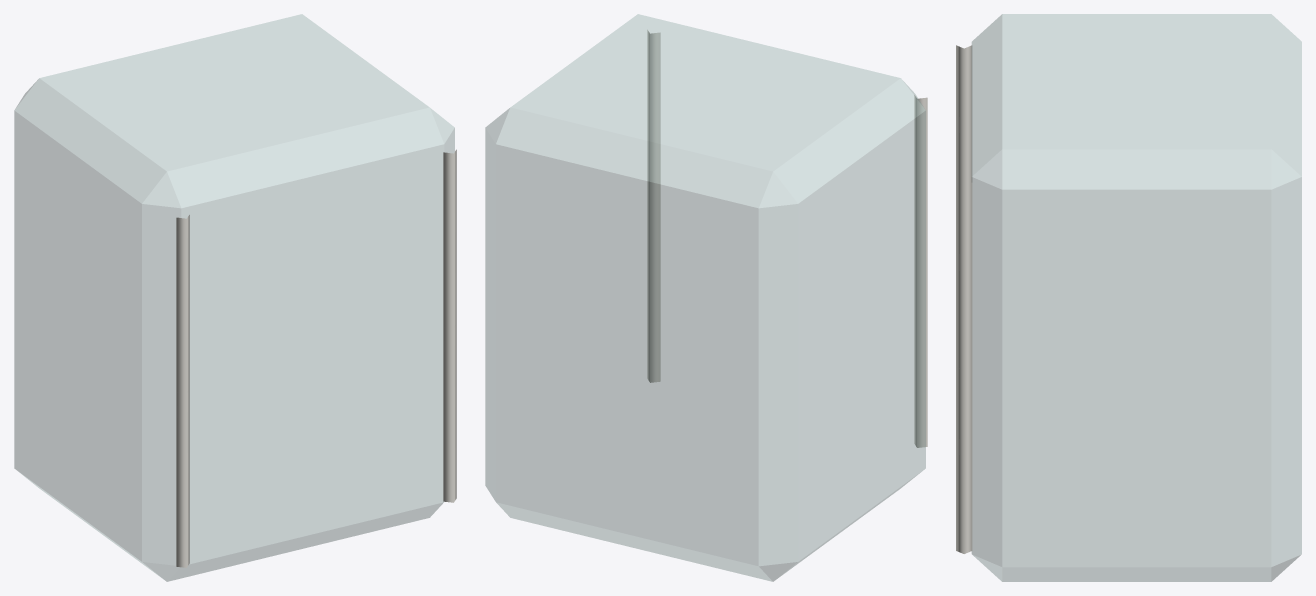
The model's file is ice.glb.
3 views of the same model, side by side, from view 1: azimuth 30°, elevation 25°; view 2: azimuth 150°, elevation 25°; view 3: azimuth 270°, elevation 25° (orthographic). The views are drawn at different scales.
Parts seen in each view (by area): view 1: ice; view 2: ice; view 3: ice.
Boxes of the visible parts, x1=… form: ice: x1=14, y1=14, x2=456, y2=581; ice: x1=485, y1=14, x2=927, y2=581; ice: x1=956, y1=14, x2=1301, y2=581.
Bounding box in the file's own units: 0.3375 × 0.423 × 0.3064.
